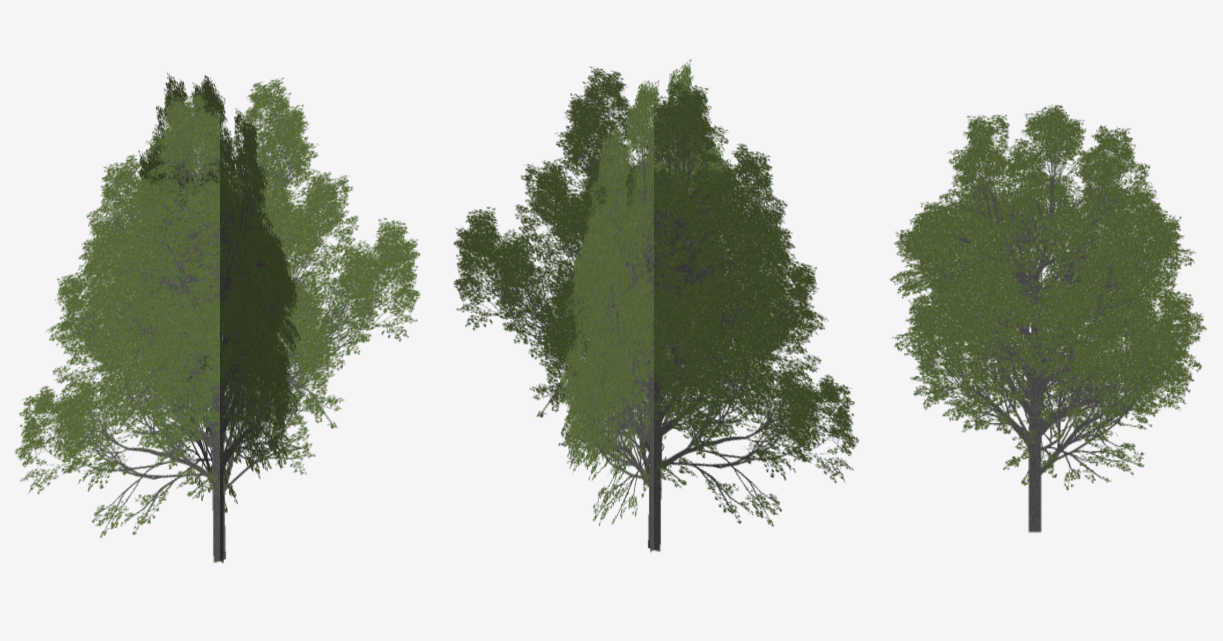
Rendered from AcerPlatanoides.glb.
The picture shows the model from 3 angles, left to right: view 1: azimuth 30°, elevation 25°; view 2: azimuth 150°, elevation 25°; view 3: azimuth 270°, elevation 25°; orthographic projection. The views are drawn at different scales.
Parts seen in each view (by area): view 1: mesh__mat_billboard_11; view 2: mesh__mat_billboard_11; view 3: mesh__mat_billboard_11.
Boxes of the visible parts, bbox=[...] form: mesh__mat_billboard_11: bbox=[15, 73, 420, 563]; mesh__mat_billboard_11: bbox=[453, 59, 858, 552]; mesh__mat_billboard_11: bbox=[889, 104, 1206, 532].
Size of the model in its own units: 18.66 by 21.07 by 14.09.
Materials: 1 (1 with a texture image).
